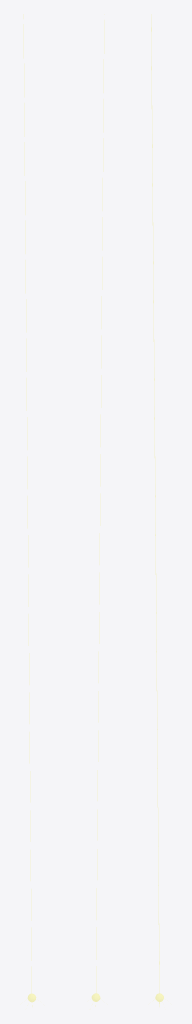
The model's file is Beam.glb.
The picture shows the model from 3 angles, left to right: view 1: azimuth 30°, elevation 25°; view 2: azimuth 210°, elevation 25°; view 3: azimuth 330°, elevation 25°; orthographic projection.
Visible parts, largest first — view 1: Beam; view 2: Beam; view 3: Beam.
Part boxes in pixels (x1,y1,x2,y2): Beam: [23, 14, 36, 1006]; Beam: [91, 14, 104, 1006]; Beam: [151, 14, 163, 1006].
Size of the model in its own units: 83.61 by 4122 by 50.58.
